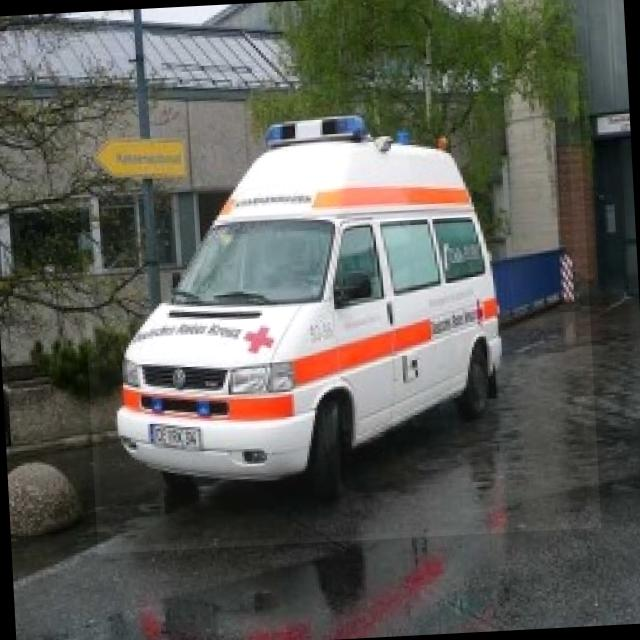ambulance: (74, 71, 601, 554), (80, 70, 589, 548)
